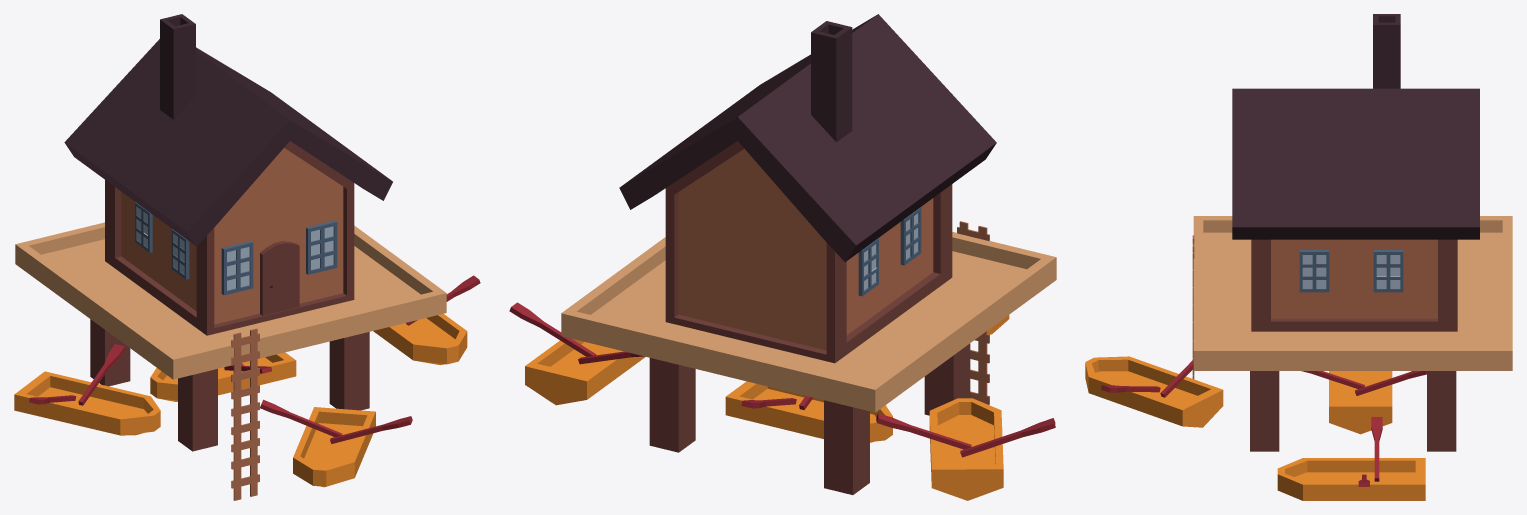
The model's file is port_lower.fbx.
The picture shows the model from 3 angles, left to right: view 1: azimuth 30°, elevation 25°; view 2: azimuth 150°, elevation 25°; view 3: azimuth 270°, elevation 25°; orthographic projection. The views are drawn at different scales.
Visible parts, largest first — view 1: Cube.005, Cube.004, lodz.001, lodz.003, Cube.006, Chimney, lodz.002, Cube, Cube.001, Cube.027, lodz, Cube.003 (+7 smaller); view 2: Cube.005, Cube.004, lodz.001, Chimney, lodz.002, Cube.002, Cube.003, lodz, Cube, Cube.006, Cube.013, Cube.011 (+3 smaller); view 3: Cube.005, Cube.004, lodz.002, lodz.003, lodz, Cube.001, Cube.002, Chimney, Cube.007, Cube.008, wioslo1.002, wioslo1.
Boxes of the visible parts, bbox=[...] form: Cube.005: bbox=[64, 39, 392, 335]; Cube.004: bbox=[15, 222, 446, 379]; lodz.001: bbox=[14, 371, 160, 435]; lodz.003: bbox=[293, 407, 375, 487]; Cube.006: bbox=[231, 328, 259, 500]; Chimney: bbox=[160, 14, 195, 119]; lodz.002: bbox=[373, 314, 467, 365]; Cube: bbox=[178, 369, 217, 451]; Cube.001: bbox=[329, 332, 369, 410]; Cube.027: bbox=[260, 241, 299, 315]; lodz: bbox=[150, 352, 296, 401]; Cube.003: bbox=[90, 319, 130, 386]; Cube.005: bbox=[619, 14, 996, 363]; Cube.004: bbox=[561, 232, 1056, 412]; lodz.001: bbox=[929, 398, 1003, 500]; Chimney: bbox=[811, 21, 852, 142]; lodz.002: bbox=[525, 339, 645, 405]; Cube.002: bbox=[649, 358, 695, 452]; Cube.003: bbox=[824, 400, 869, 494]; lodz: bbox=[725, 381, 892, 442]; Cube: bbox=[924, 343, 970, 415]; Cube.006: bbox=[957, 221, 989, 404]; Cube.013: bbox=[900, 207, 921, 265]; Cube.011: bbox=[858, 238, 878, 296]; Cube.005: bbox=[1232, 88, 1479, 331]; Cube.004: bbox=[1193, 216, 1512, 370]; lodz.002: bbox=[1277, 458, 1425, 500]; lodz.003: bbox=[1085, 356, 1223, 427]; lodz: bbox=[1329, 371, 1392, 434]; Cube.001: bbox=[1250, 371, 1279, 451]; Cube.002: bbox=[1427, 371, 1456, 451]; Chimney: bbox=[1373, 14, 1400, 88]; Cube.007: bbox=[1299, 250, 1329, 292]; Cube.008: bbox=[1373, 250, 1403, 292]; wioslo1.002: bbox=[1371, 417, 1382, 481]; wioslo1: bbox=[1355, 371, 1426, 395].
Bounding box in the file's own units: 11.44 × 9.47 × 9.1.
